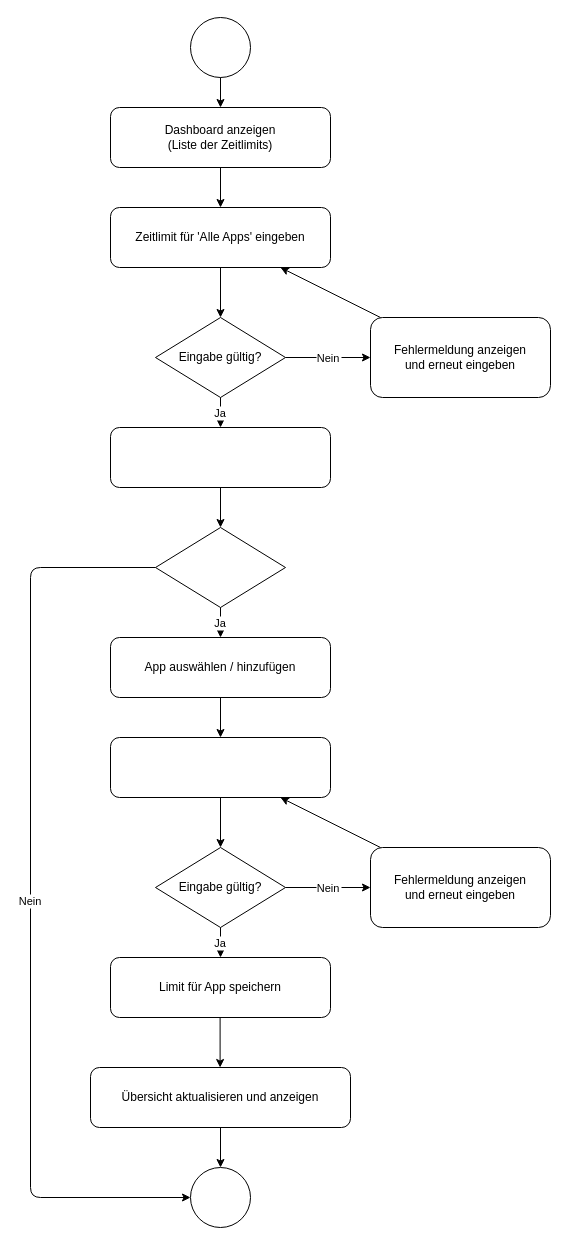
This 568x1245 diagram has some shape labels left out. The centre of each missing label's shape, as x and y in pixels:
App hinzufügen?: point 220,567
Ende: point 220,1197
Limit für alle Apps speichern: point 220,457
Start: point 220,47
Zeitlimit für ausgewählte App eingeben: point 220,767
